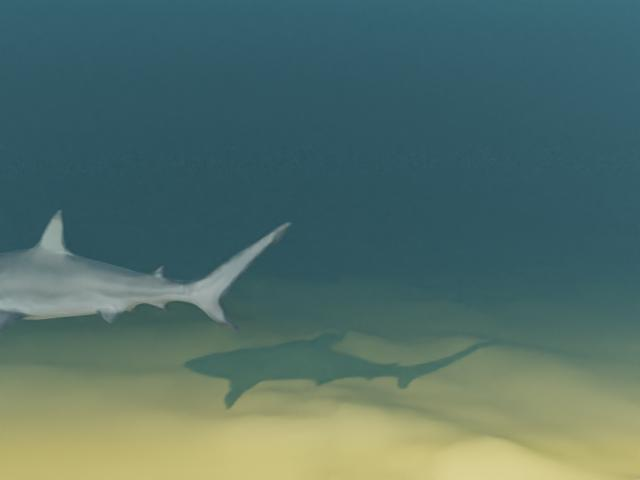Carribean Shark.001: (0, 209, 292, 352)
